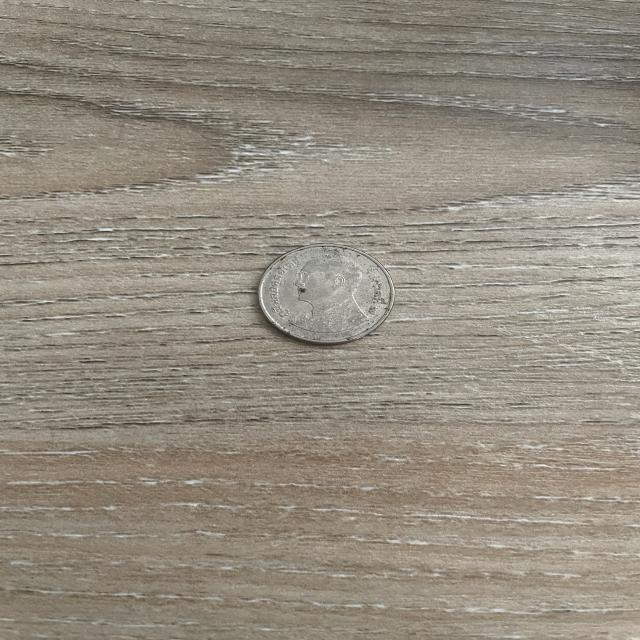1 Bath: (249, 236, 403, 356)
